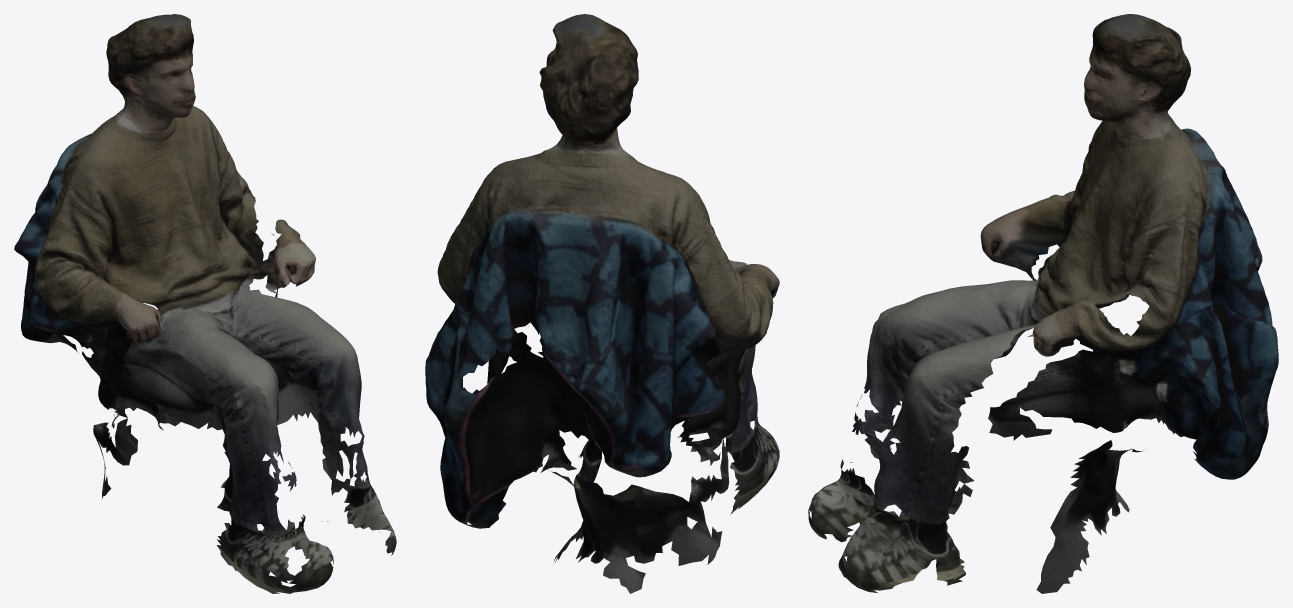
The model's file is quentin_fullbody.glb.
3 views of the same model, side by side, from view 1: azimuth 30°, elevation 25°; view 2: azimuth 150°, elevation 25°; view 3: azimuth 270°, elevation 25° (orthographic). The views are drawn at different scales.
Parts seen in each view (by area): view 1: model.obj; view 2: model.obj; view 3: model.obj.
Boxes of the visible parts, x1,y1,x2,y2 form: model.obj: [14, 14, 396, 593]; model.obj: [425, 14, 779, 593]; model.obj: [808, 14, 1278, 593].
Size of the model in its own units: 0.6071 by 1.17 by 0.9137.
Materials: 1 (1 with a texture image).
